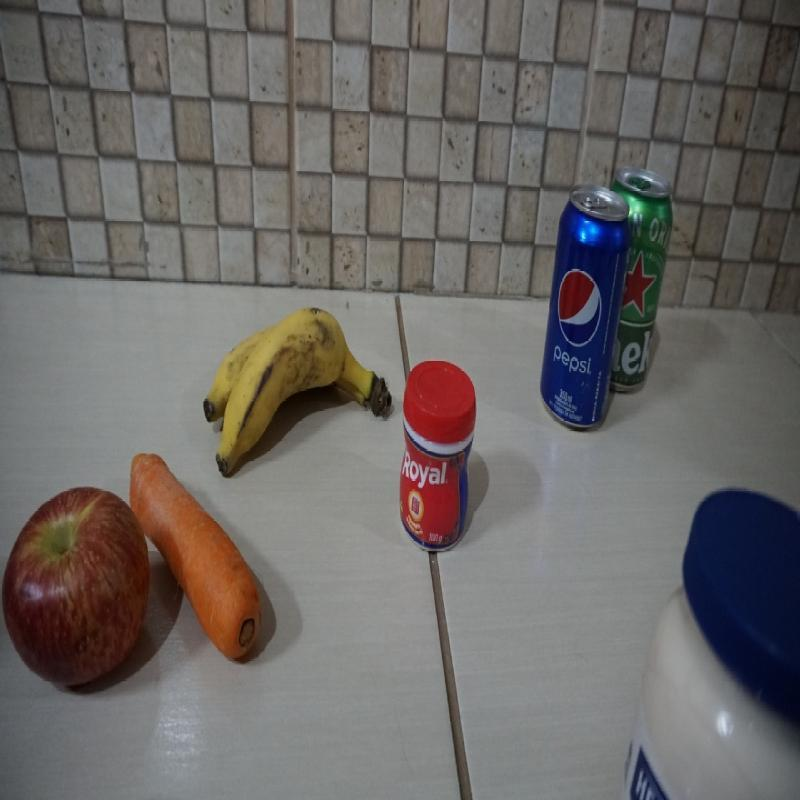Apple: (2, 487, 150, 687)
Banana: (201, 308, 393, 474)
Beer can: (607, 163, 676, 399)
Carrot: (129, 453, 262, 663)
Mayonnaise: (617, 489, 800, 800)
Soda can: (539, 184, 631, 430)
Yeast: (398, 358, 477, 554)
